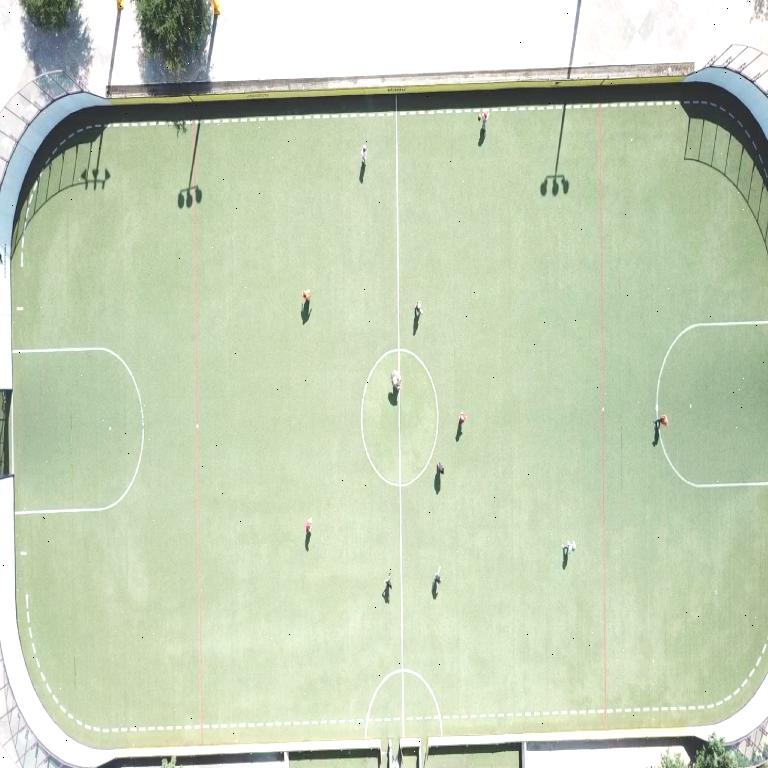AC: (12, 348, 143, 515), (655, 320, 767, 415)
B: (478, 113, 481, 119)
MC: (397, 396, 404, 738)
P: (390, 371, 401, 392), (478, 109, 488, 132), (654, 414, 667, 428), (562, 541, 574, 555), (302, 289, 312, 303), (414, 301, 422, 317), (304, 519, 311, 535), (433, 568, 440, 584), (385, 573, 392, 589), (360, 144, 365, 164), (458, 412, 465, 426), (436, 462, 443, 474)
